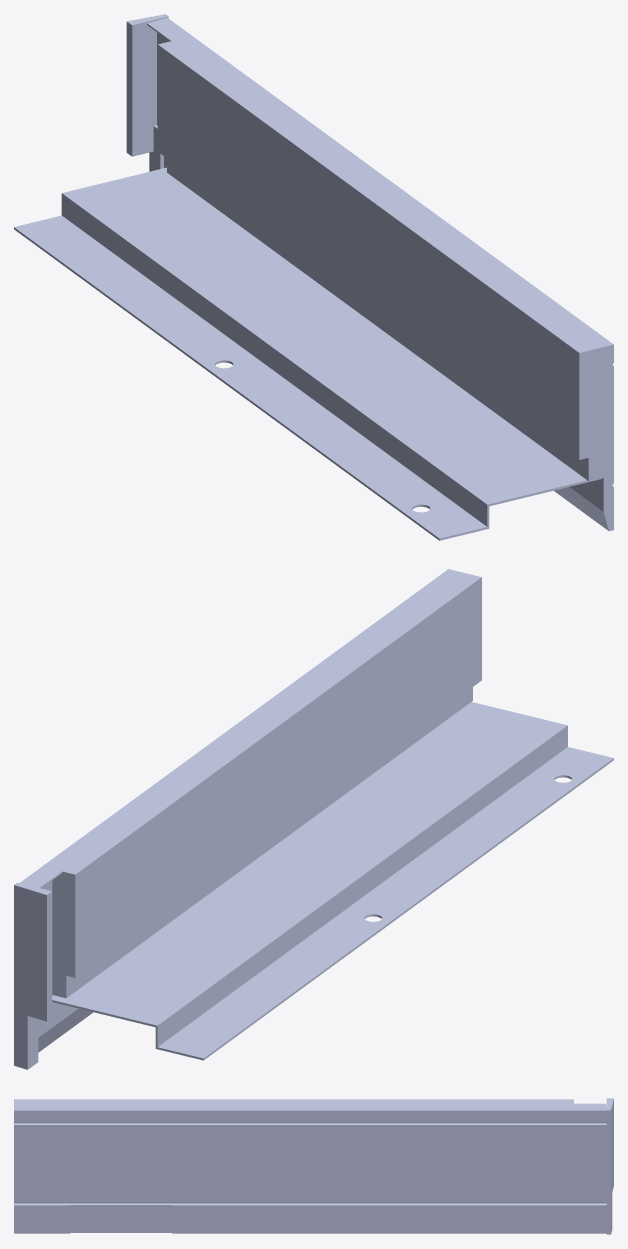
File: lg-kava-N300-m.glb
3 views of the same model, one above another, from view 1: azimuth 30°, elevation 25°; view 2: azimuth 150°, elevation 25°; view 3: azimuth 270°, elevation 25° (orthographic). The views are drawn at different scales.
Parts seen in each view (by area): view 1: 40197483; view 2: 40197483; view 3: 40197483.
Part boxes in pixels (x1,y1,x2,y2): 40197483: (14, 14, 613, 540); 40197483: (14, 569, 613, 1069); 40197483: (14, 1098, 613, 1234).
Bounding box in the file's own units: 0.0653 × 0.0672 × 0.2935.
